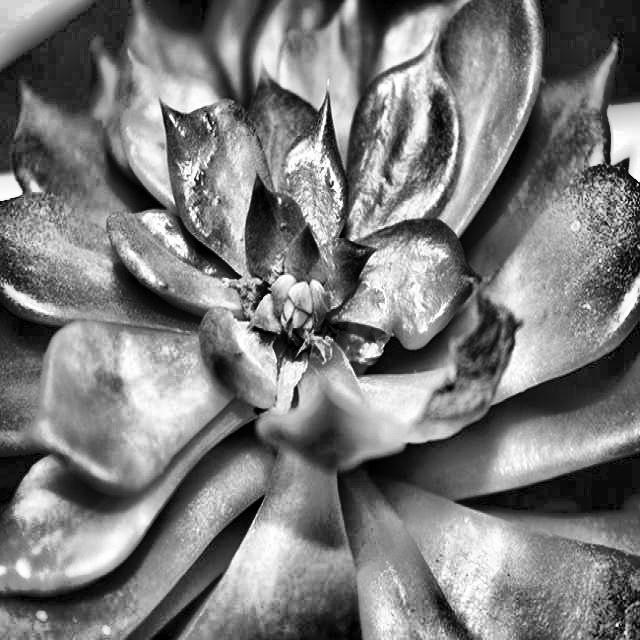plants: (11, 14, 639, 638), (193, 262, 546, 472)
